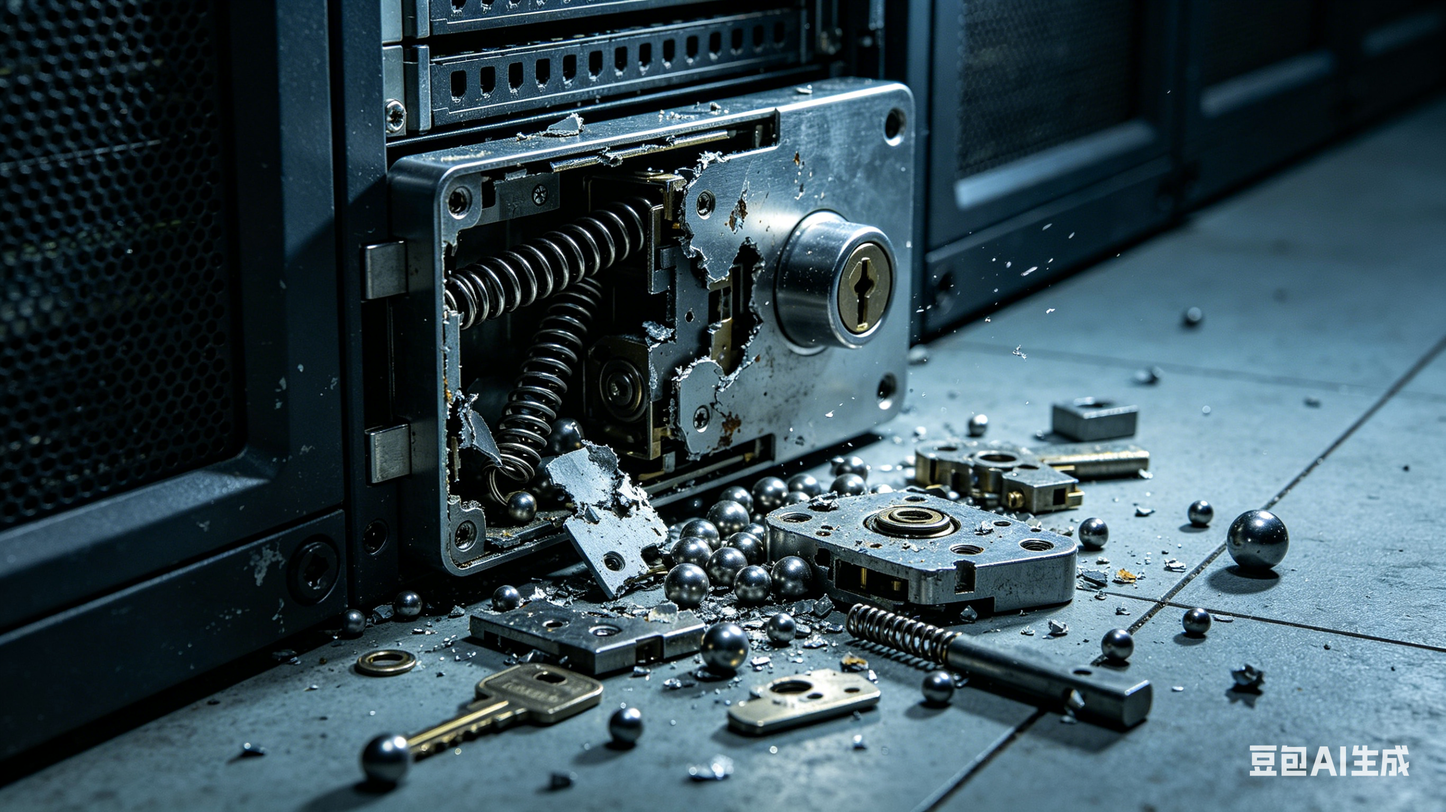BadLock: (441, 175, 806, 514)
